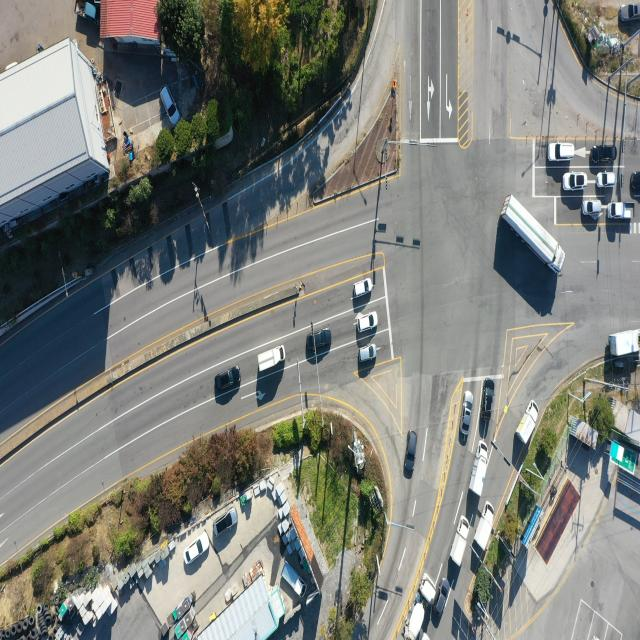car: (184, 532, 210, 564), (160, 84, 178, 127), (308, 328, 335, 354), (435, 576, 452, 616), (213, 366, 240, 391), (405, 430, 418, 480), (215, 510, 239, 535), (549, 141, 577, 162), (460, 390, 472, 438), (356, 312, 378, 334), (563, 172, 587, 192), (482, 380, 494, 420), (352, 277, 372, 299), (356, 344, 376, 364), (620, 3, 640, 21), (584, 200, 603, 217), (596, 172, 616, 188), (630, 172, 640, 192)
medium_truck: (505, 193, 567, 275), (404, 574, 438, 640), (609, 330, 640, 360)
small_truck: (470, 443, 492, 500), (475, 502, 497, 550), (517, 401, 540, 446), (451, 516, 470, 567), (257, 344, 286, 376), (283, 562, 306, 596), (75, 0, 98, 26), (610, 202, 636, 222)
